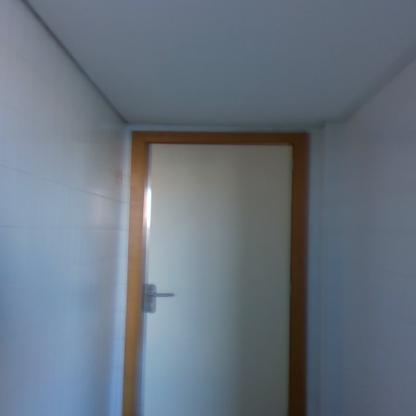door: (146, 144, 289, 416)
lever: (151, 291, 177, 299)
